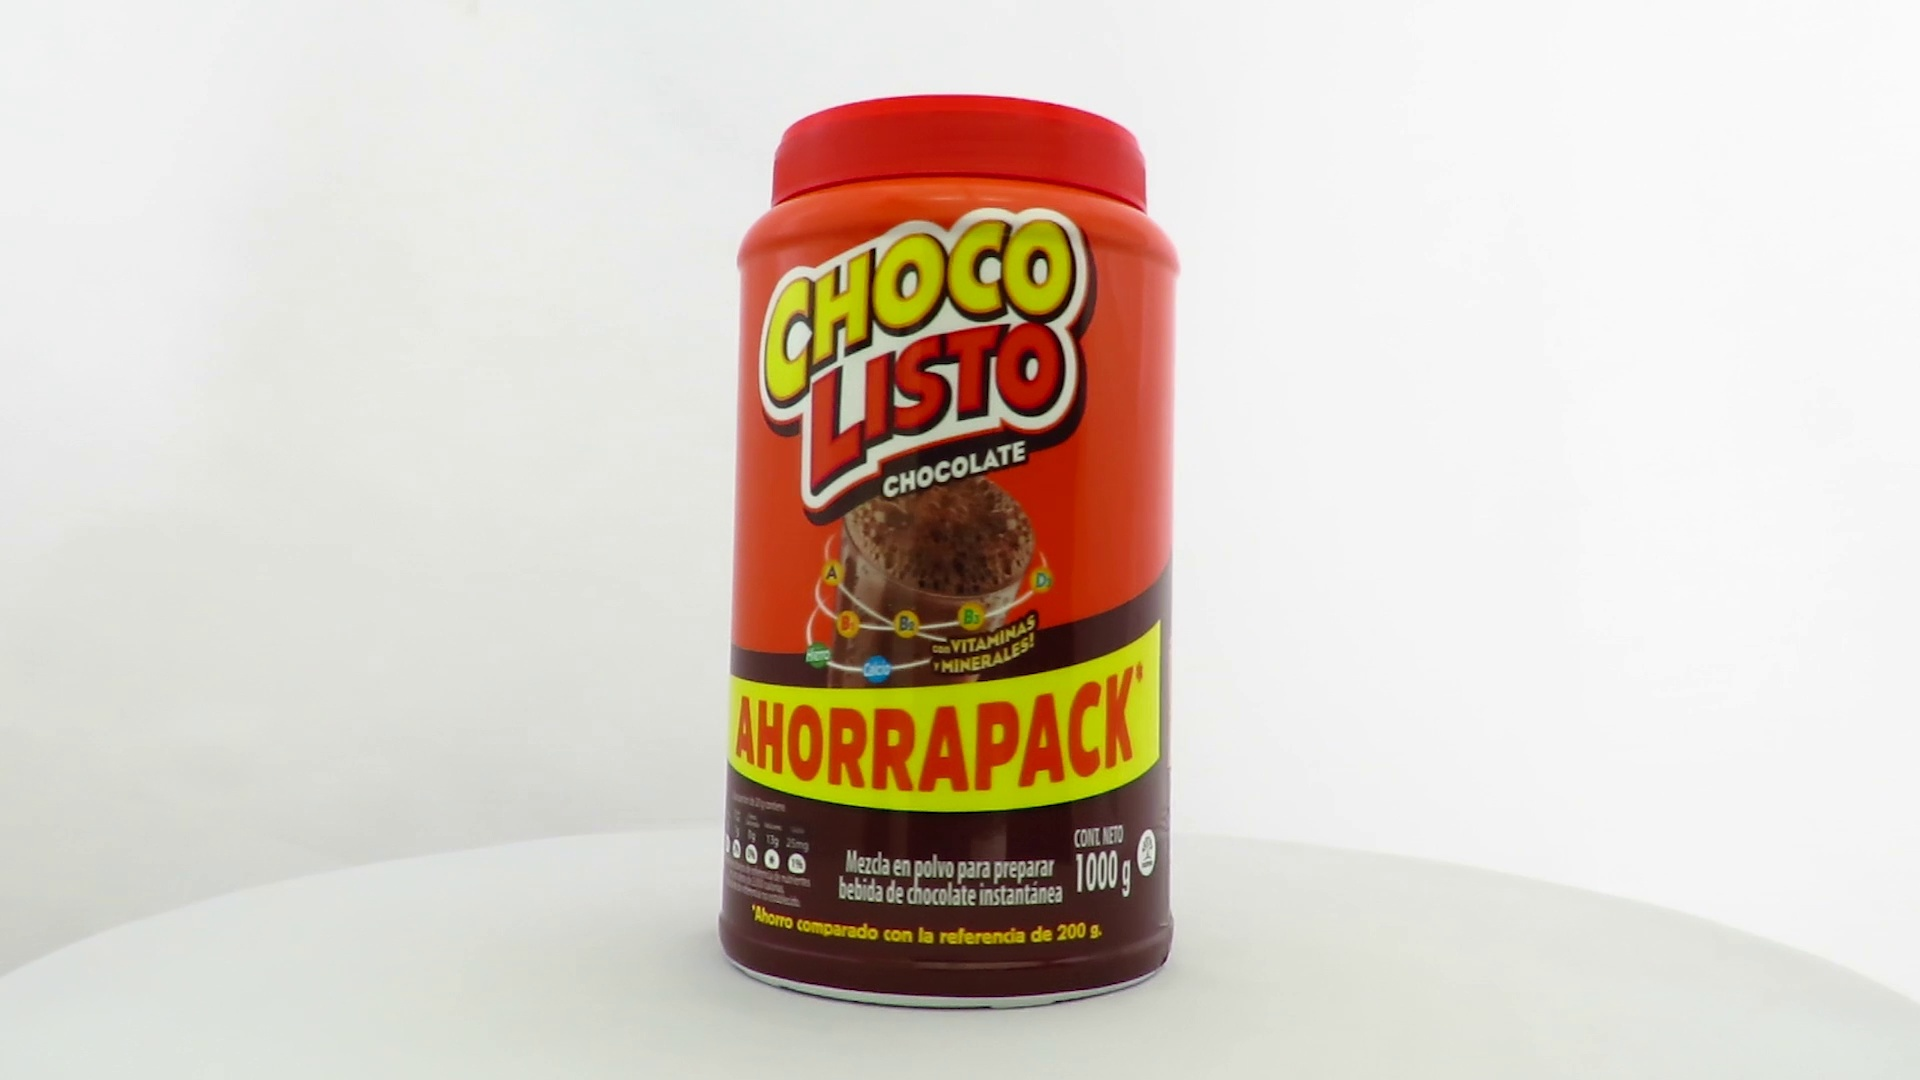COL0170103TRR00100: (713, 88, 1180, 1017)
